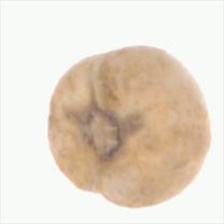L4: (47, 45, 211, 210)
